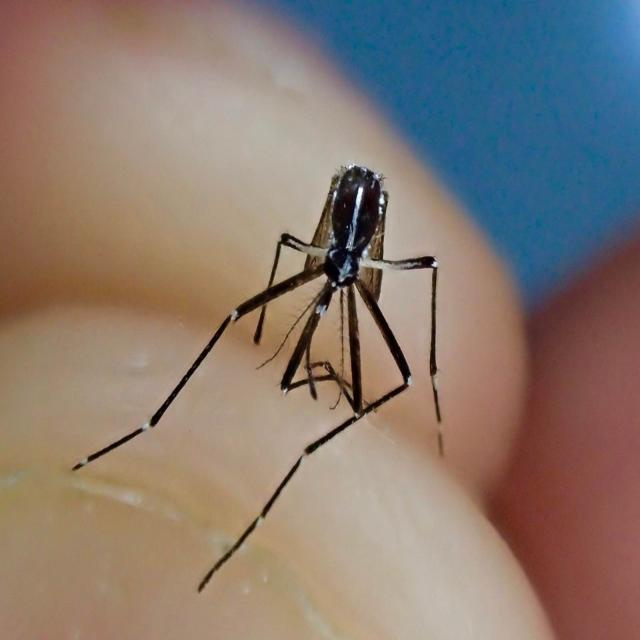albopictus: (80, 160, 458, 582)
